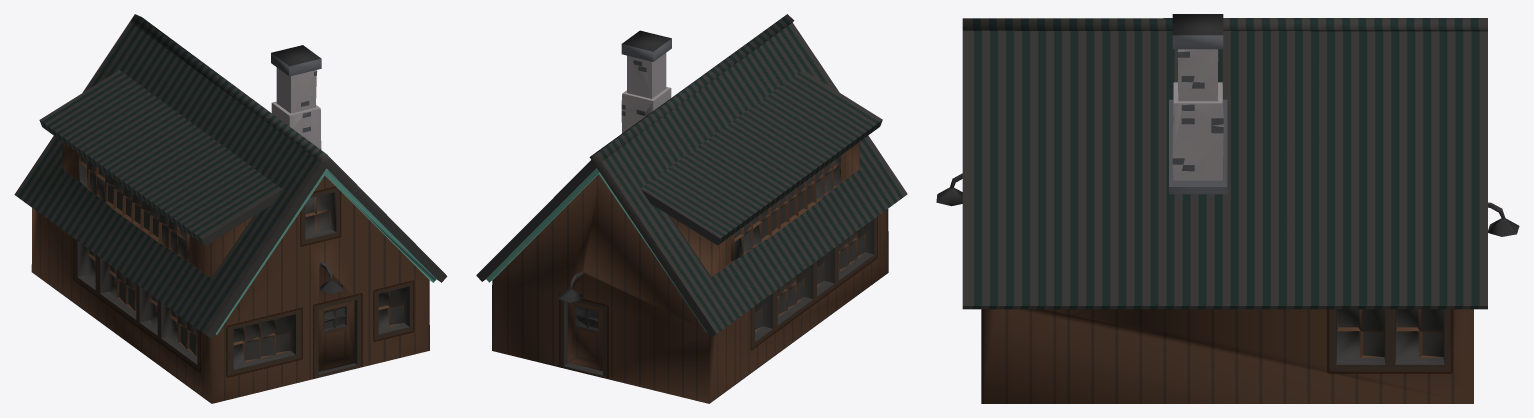
Rendered from decimatedCabin0.6.glb.
3 views of the same model, side by side, from view 1: azimuth 30°, elevation 25°; view 2: azimuth 150°, elevation 25°; view 3: azimuth 270°, elevation 25° (orthographic). The views are drawn at different scales.
Visible parts, largest first — view 1: Cabin.004; view 2: Cabin.004; view 3: Cabin.004.
Part boxes in pixels (box(x1,y1,x2,y2)): Cabin.004: box(14, 14, 447, 403); Cabin.004: box(476, 14, 907, 403); Cabin.004: box(936, 14, 1519, 403).
Size of the model in its own units: 0.1219 by 0.1208 by 0.1863.
Materials: 1 (1 with a texture image).
